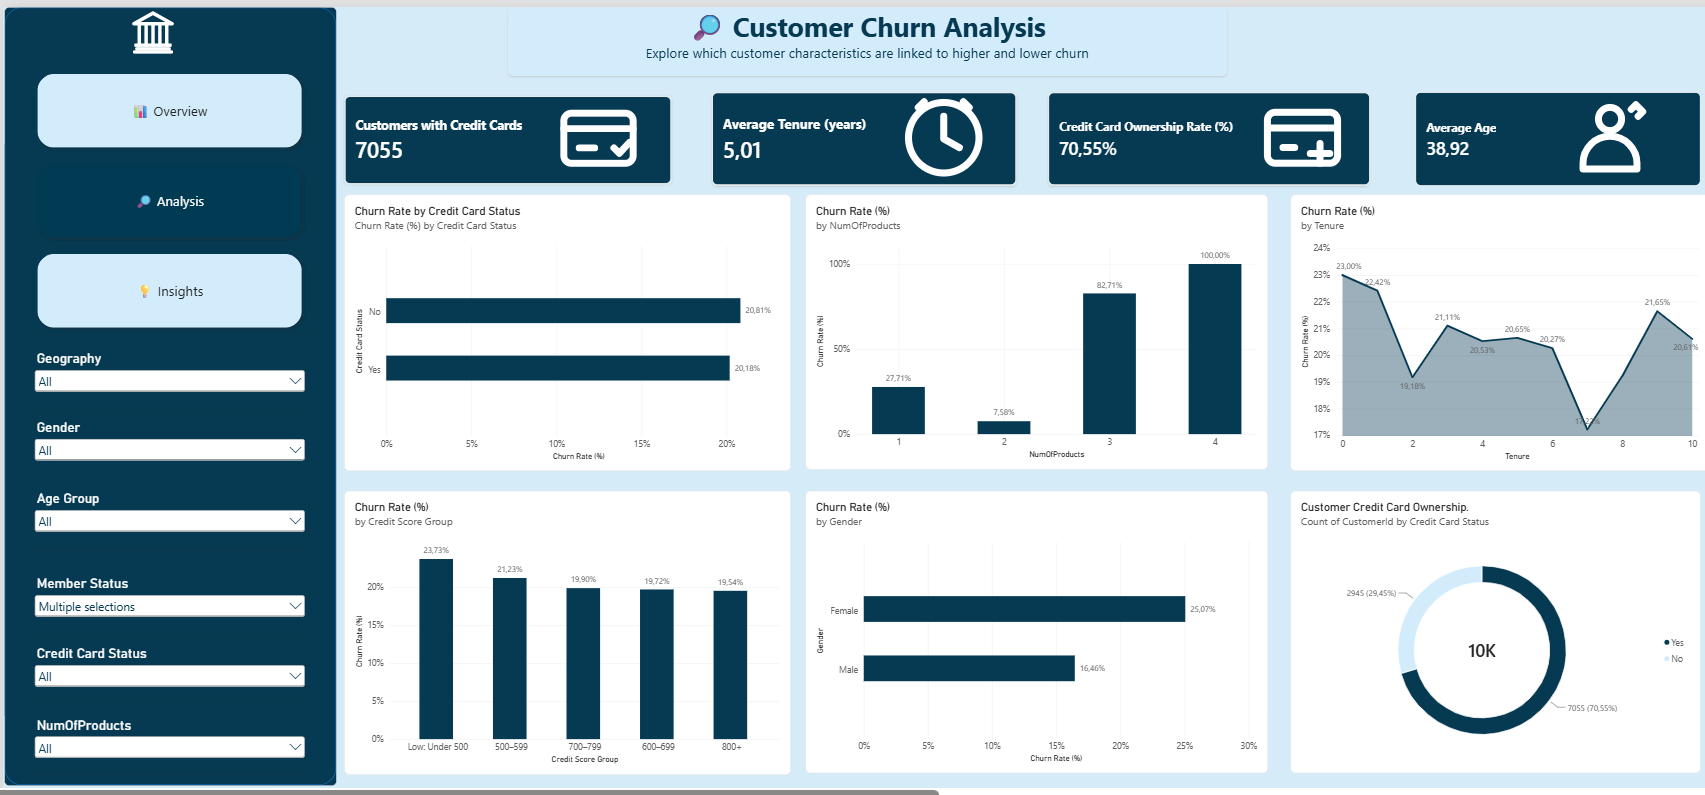

Layout of this report page (visuals, bound fields, positions):
{"tool":"powerbi","page":{"name":"🔎 Analysis","canvas":[5000,2000],"ordinal":1},"visuals":[{"type":"cardVisual","fields":{"Data":["churn_analysis customers.Average Age"]},"box":[2274,136,456,150],"z":0,"group":"g5"},{"type":"clusteredColumnChart","fields":{"Category":["churn_analysis customers.NumOfProducts"],"Y":["churn_analysis customers.Churn Rate (%)"]},"box":[1284,300,740,440],"z":0},{"type":"clusteredColumnChart","fields":{"Category":["churn_analysis customers.Credit Score Group"],"Y":["churn_analysis customers.Churn Rate (%)"]},"box":[546,774,714,454],"z":0,"group":"g2"},{"type":"shape","box":[2,0,532,1246],"z":1000,"group":"g2"},{"type":"image","box":[2488,136,194,148],"z":1000,"group":"g5"},{"type":"lineChart","fields":{"Category":["churn_analysis customers.Tenure"],"Y":["churn_analysis customers.Churn Rate (%)"]},"box":[2060,300,670,442],"z":1000},{"type":"group","id":"g1","title":"Group 3","box":[1148,134,488,152],"z":2000,"group":"g5"},{"type":"slicer","fields":{"Values":["churn_analysis customers.Gender"]},"box":[46,660,441.8,96],"z":2000,"group":"g2"},{"type":"clusteredBarChart","fields":{"Category":["churn_analysis customers.Gender"],"Y":["churn_analysis customers.Churn Rate (%)"]},"box":[1284,774,740,452],"z":2000},{"type":"slicer","fields":{"Values":["churn_analysis customers.Geography"]},"box":[46,550,441.8,90],"z":3000,"group":"g2"},{"type":"donutChart","title":"Customer Credit Card Ownership.","fields":{"Category":["churn_analysis customers.Credit Card Status"],"Y":["Count(churn_analysis customers.CustomerId)"]},"box":[2060,774,656,452],"z":3000},{"type":"cardVisual","fields":{"Data":["churn_analysis customers.Customers with Credit Cards"]},"box":[546,142,524,142],"z":4000,"group":"g3"},{"type":"clusteredBarChart","title":"Churn Rate by Credit Card Status","fields":{"Category":["churn_analysis customers.Credit Card Status"],"Y":["churn_analysis customers.Churn Rate (%)"]},"box":[542,300,714,442],"z":4000},{"type":"slicer","fields":{"Values":["churn_analysis customers.Age Group"]},"box":[46,774,442,94],"z":4000,"group":"g2"},{"type":"textbox","box":[808,0,1150,110],"z":5000},{"type":"cardVisual","fields":{"Data":["churn_analysis customers.Average Tenure (years)"]},"box":[1148,136,488,150],"z":5000,"group":"g1"},{"type":"slicer","fields":{"Values":["churn_analysis customers.Credit Card Status"]},"box":[46,1022,442,90],"z":5000,"group":"g2"},{"type":"group","id":"g2","title":"Group 1","box":[2,0,1258,1246],"z":6000},{"type":"cardVisual","fields":{"Data":["churn_analysis customers.Credit Card Ownership Rate (%)"]},"box":[1672,136,516,150],"z":6000,"group":"g4"},{"type":"slicer","fields":{"Values":["churn_analysis customers.Member Status"]},"box":[46,910,442,92],"z":6000,"group":"g2"},{"type":"image","box":[170,0,140,78],"z":7000},{"type":"slicer","fields":{"Values":["churn_analysis customers.NumOfProducts"]},"box":[46,1136,441.8,90],"z":7000,"group":"g2"},{"type":"pageNavigator","box":[46,98,441.8,424],"z":8000,"group":"g2"},{"type":"group","id":"g3","title":"Group 2","box":[546,136,524,148],"z":8000},{"type":"group","id":"g4","title":"Group 4","box":[1672,134,516,152],"z":9000},{"type":"group","id":"g5","title":"Group 5","box":[1148,134,1582,152],"z":10000},{"type":"image","box":[862,136,182,148],"z":16002,"group":"g3"},{"type":"image","box":[1420,134,198,150],"z":16003,"group":"g1"},{"type":"image","box":[1994,134,170,150],"z":16004,"group":"g4"}]}

Visuals, with their boxes on the page's 5000x2000 design canvas (x1, y1, x2, y2). These are canvas units, not pixel positions in the 1705x795 screenshot, which may show the page scaled, cropped or inside an application window:
cardVisual - churn_analysis customers.Average Age: bbox(2274, 136, 2730, 286)
clusteredColumnChart - churn_analysis customers.NumOfProducts x churn_analysis customers.Churn Rate (%): bbox(1284, 300, 2024, 740)
clusteredColumnChart - churn_analysis customers.Credit Score Group x churn_analysis customers.Churn Rate (%): bbox(546, 774, 1260, 1228)
shape: bbox(2, 0, 534, 1246)
image: bbox(2488, 136, 2682, 284)
lineChart - churn_analysis customers.Tenure x churn_analysis customers.Churn Rate (%): bbox(2060, 300, 2730, 742)
"Group 3" group: bbox(1148, 134, 1636, 286)
slicer - churn_analysis customers.Gender: bbox(46, 660, 488, 756)
clusteredBarChart - churn_analysis customers.Gender x churn_analysis customers.Churn Rate (%): bbox(1284, 774, 2024, 1226)
slicer - churn_analysis customers.Geography: bbox(46, 550, 488, 640)
"Customer Credit Card Ownership." donutChart: bbox(2060, 774, 2716, 1226)
cardVisual - churn_analysis customers.Customers with Credit Cards: bbox(546, 142, 1070, 284)
"Churn Rate by Credit Card Status" clusteredBarChart: bbox(542, 300, 1256, 742)
slicer - churn_analysis customers.Age Group: bbox(46, 774, 488, 868)
textbox: bbox(808, 0, 1958, 110)
cardVisual - churn_analysis customers.Average Tenure (years): bbox(1148, 136, 1636, 286)
slicer - churn_analysis customers.Credit Card Status: bbox(46, 1022, 488, 1112)
"Group 1" group: bbox(2, 0, 1260, 1246)
cardVisual - churn_analysis customers.Credit Card Ownership Rate (%): bbox(1672, 136, 2188, 286)
slicer - churn_analysis customers.Member Status: bbox(46, 910, 488, 1002)
image: bbox(170, 0, 310, 78)
slicer - churn_analysis customers.NumOfProducts: bbox(46, 1136, 488, 1226)
pageNavigator: bbox(46, 98, 488, 522)
"Group 2" group: bbox(546, 136, 1070, 284)
"Group 4" group: bbox(1672, 134, 2188, 286)
"Group 5" group: bbox(1148, 134, 2730, 286)
image: bbox(862, 136, 1044, 284)
image: bbox(1420, 134, 1618, 284)
image: bbox(1994, 134, 2164, 284)
